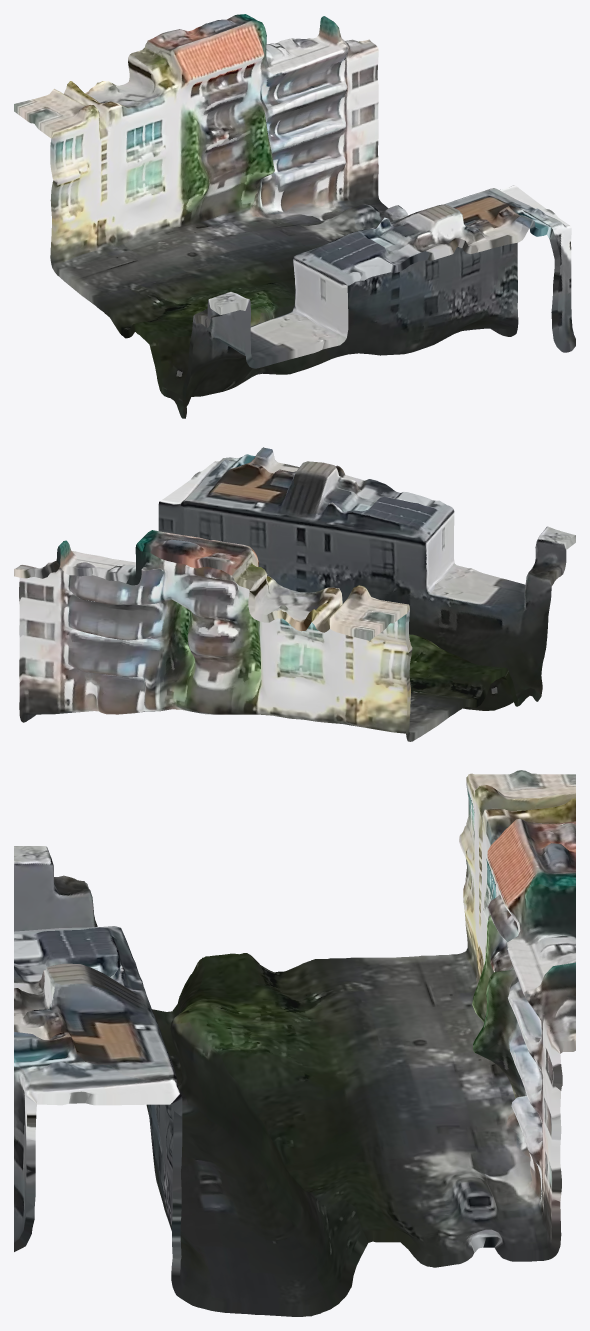
Rendered from z20-167758-405195-h0-yup-uvflip-v3-world.glb.
The picture shows the model from 3 angles, top to bottom: view 1: azimuth 30°, elevation 25°; view 2: azimuth 150°, elevation 25°; view 3: azimuth 270°, elevation 25°; orthographic projection. The views are drawn at different scales.
Size of the model in its own units: 30.16 by 21.4 by 30.32.
Materials: 1 (1 with a texture image).
